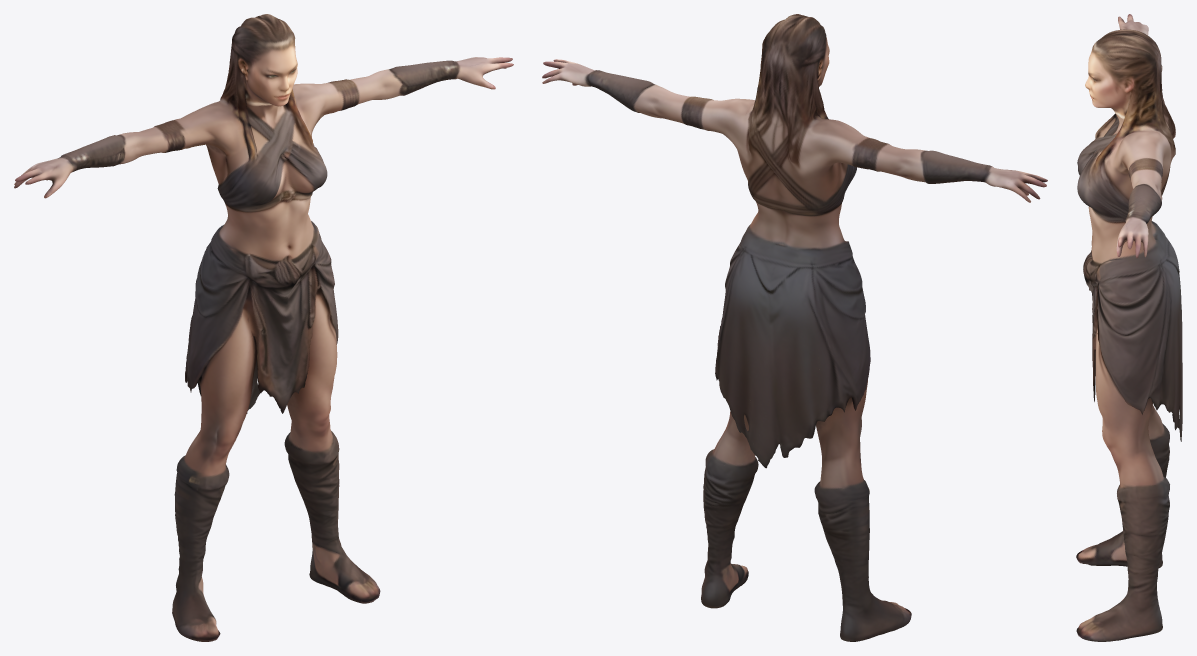
The model's file is base_basic_shaded.fbx.
3 views of the same model, side by side, from view 1: azimuth 30°, elevation 25°; view 2: azimuth 150°, elevation 25°; view 3: azimuth 270°, elevation 25° (orthographic). The views are drawn at different scales.
Parts seen in each view (by area): view 1: model; view 2: model; view 3: model.
Boxes of the visible parts, left/top/right/bottom form: model: left=14, top=14, right=513, bottom=641; model: left=542, top=14, right=1047, bottom=641; model: left=1076, top=14, right=1182, bottom=641.
Bounding box in the file's own units: 153 × 172 × 29.4.
